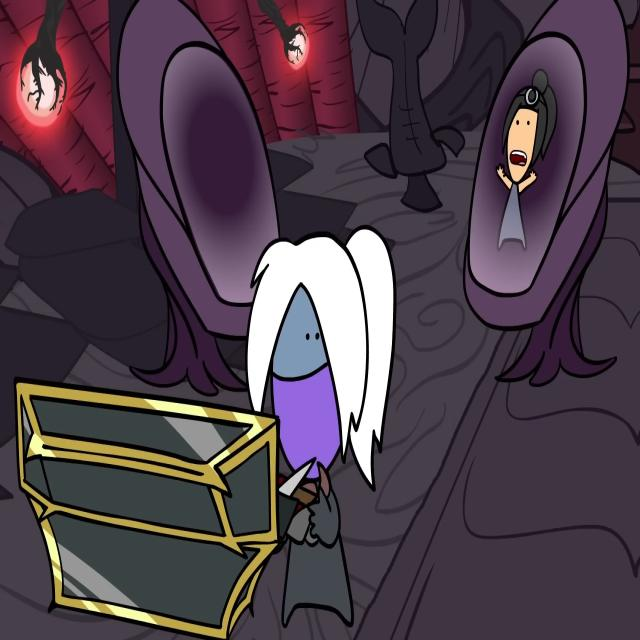miss Demeanor: (242, 220, 398, 626)
